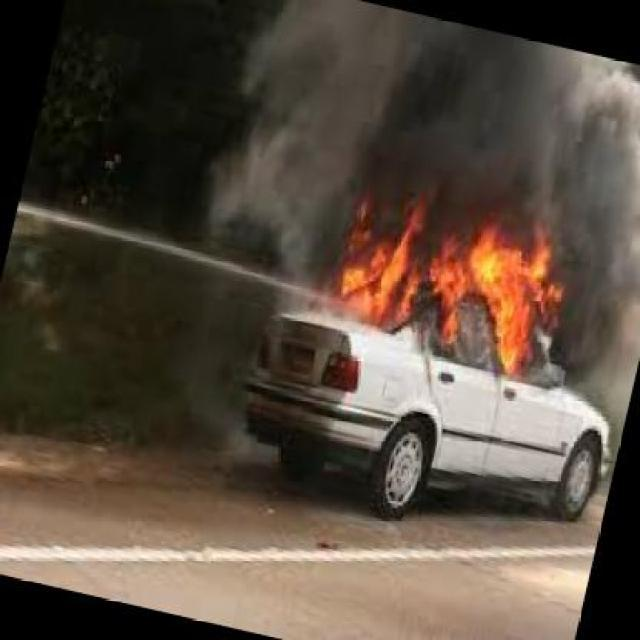Fire: (331, 190, 564, 375)
Smoke: (241, 0, 640, 215), (204, 169, 328, 460), (564, 155, 640, 429)
